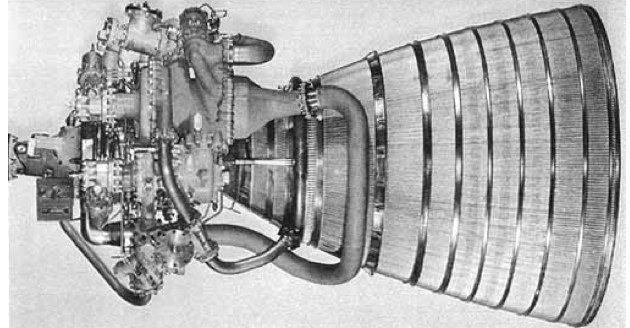thruster: (307, 0, 630, 324)
